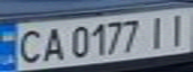0: (66, 22, 90, 60)
1: (87, 20, 109, 56)
7: (103, 19, 127, 55), (121, 17, 145, 53)
A: (36, 25, 69, 63)
C: (9, 27, 48, 65)
I: (160, 9, 193, 47), (142, 12, 172, 50)
